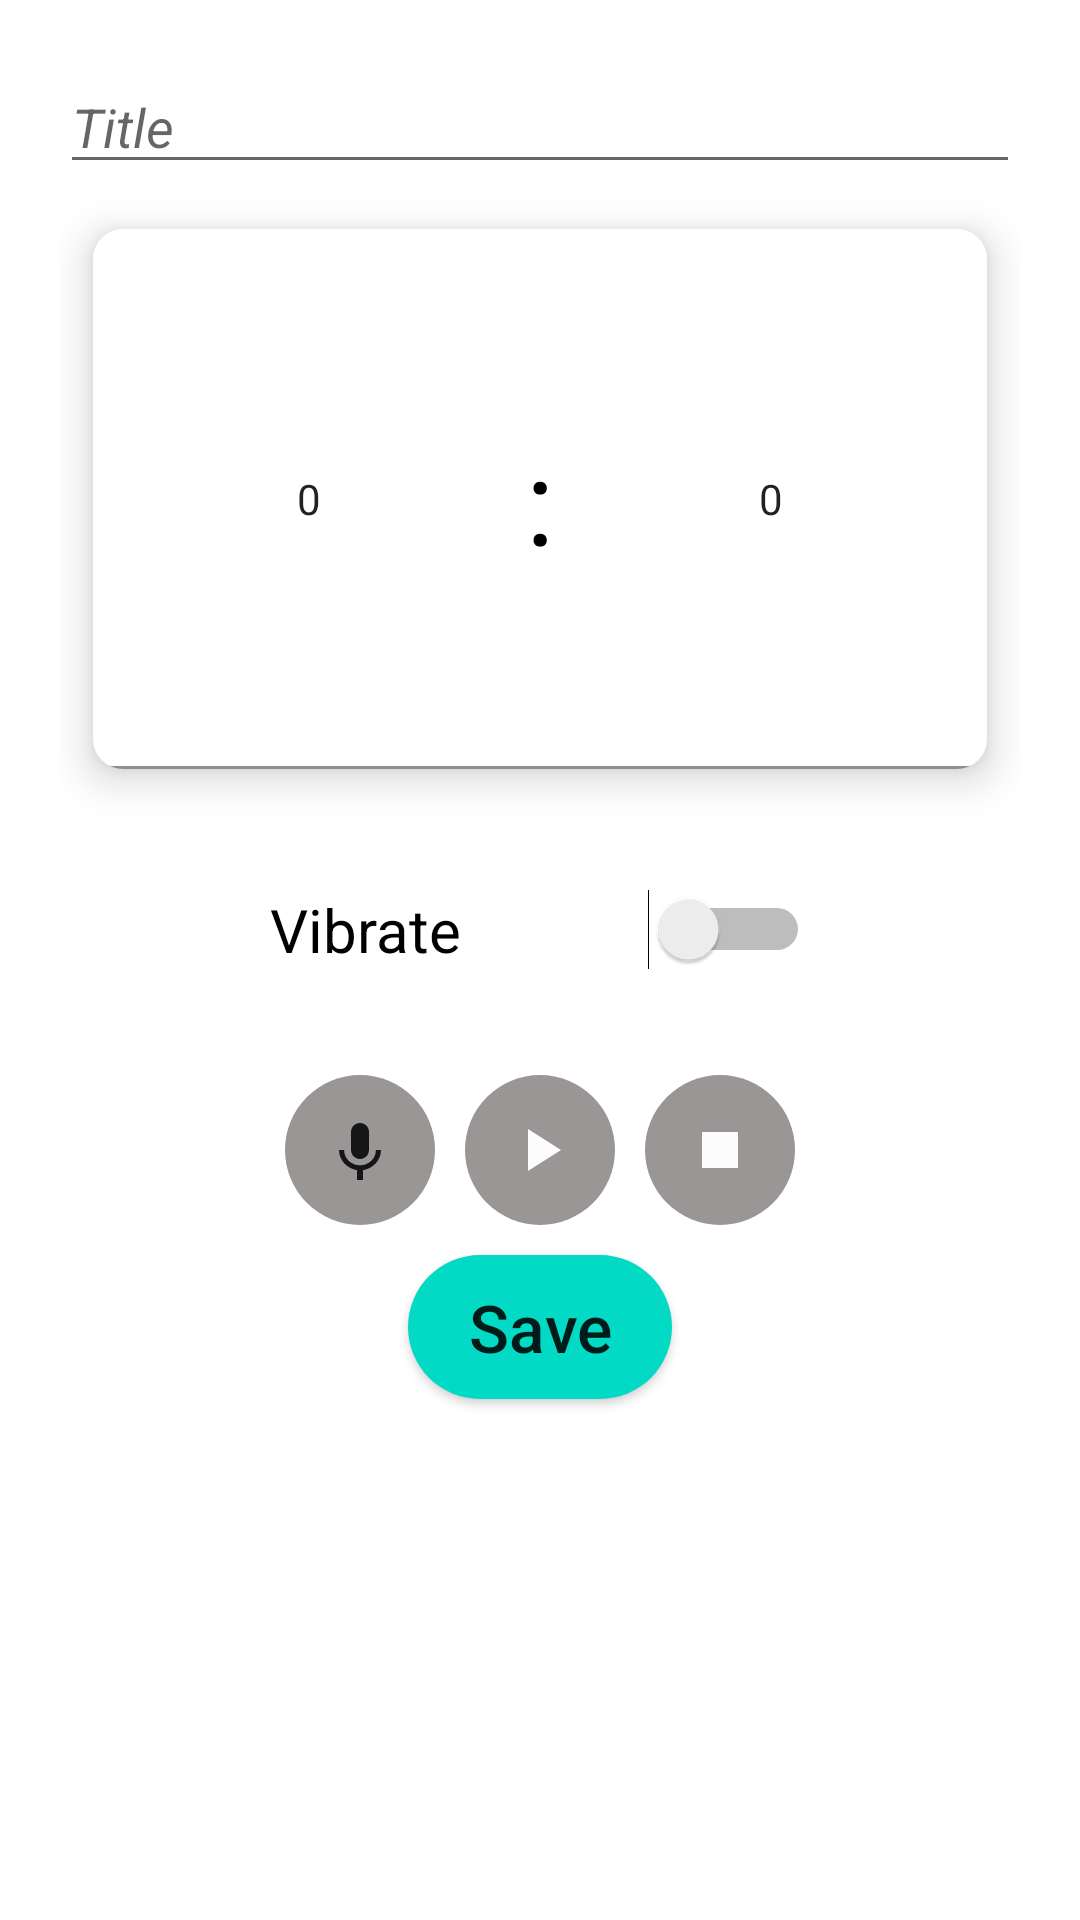

Icon bounding boxes for this 1080×1920 phone screenshot, format (x1, y1, x2, y2):
keyboard voice: (339, 1123, 381, 1180)
play arrow: (528, 1129, 561, 1171)
